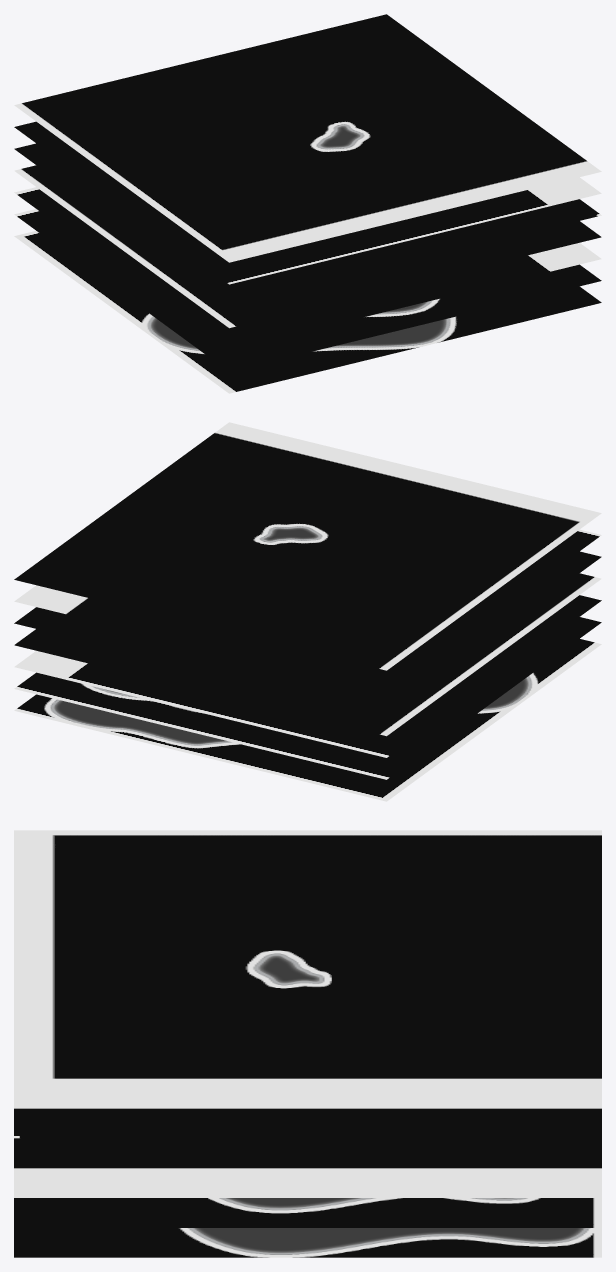
Rendered from Holo_Mountain_01.FBX.
3 renders of one model, top to bottom at view 1: azimuth 30°, elevation 25°; view 2: azimuth 150°, elevation 25°; view 3: azimuth 270°, elevation 25°, orthographic. The views are drawn at different scales.
Visible parts, largest first — view 1: Holo_Mountain_01; view 2: Holo_Mountain_01; view 3: Holo_Mountain_01.
Part boxes in pixels (box(x1,y1,x2,y2)): Holo_Mountain_01: box(14, 14, 601, 393); Holo_Mountain_01: box(14, 422, 601, 801); Holo_Mountain_01: box(14, 830, 601, 1257).
Size of the model in its own units: 1.5 by 0.5036 by 1.5.
